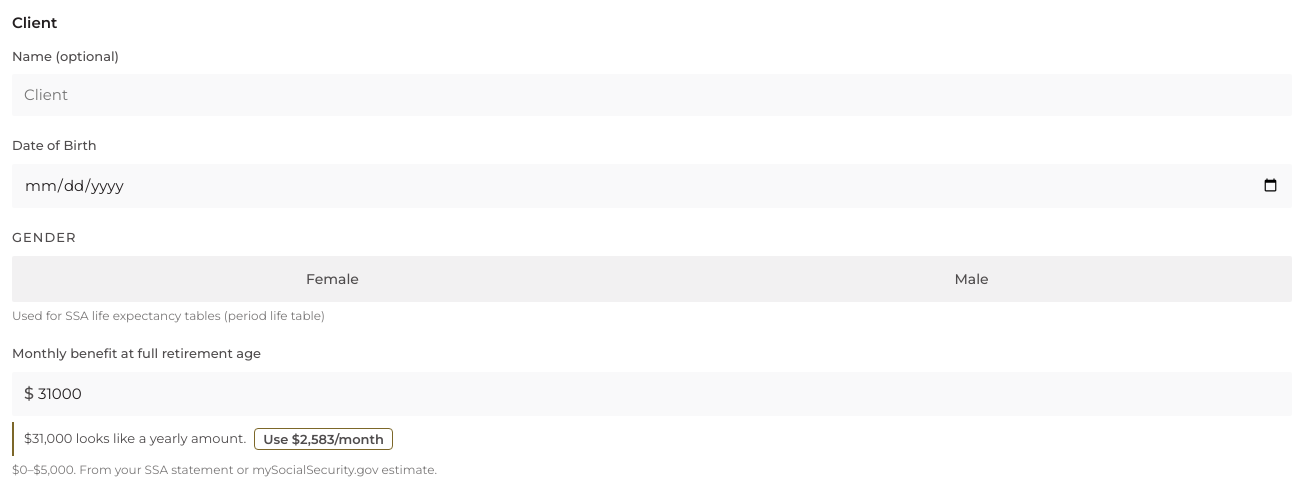
yearly-entry nudge › enters exactly the amount its label promises, for a figure that does not divide evenly
The image size is (1304, 494).
Click the button "Use $2,583/month" at (324, 439), box [254,428,393,450]
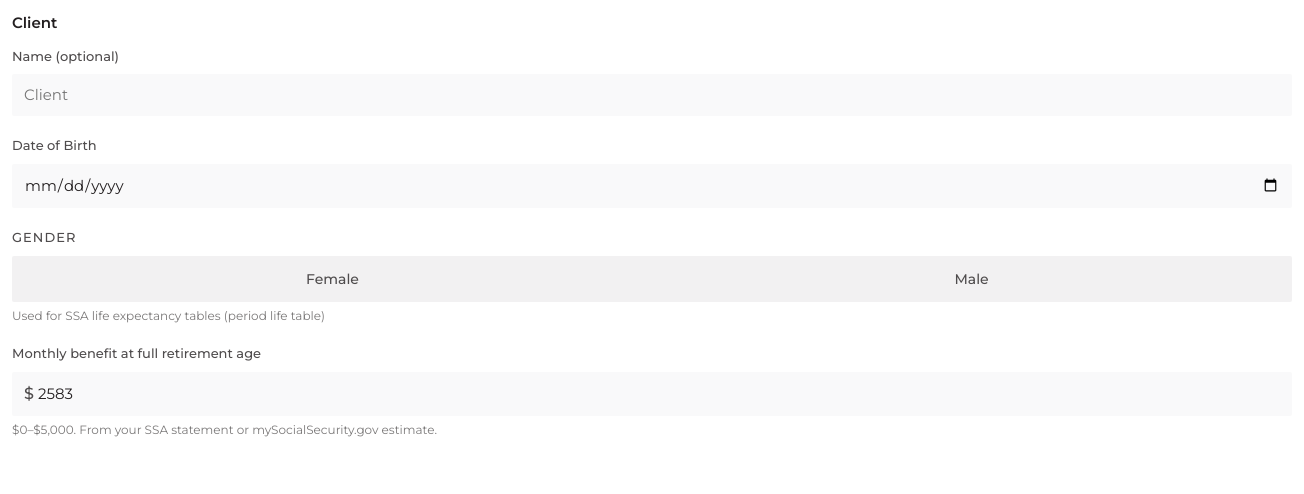
Expected: the field labelled "Monthly benefit at full retirement age" holds "2583", [34,373,1292,415]
